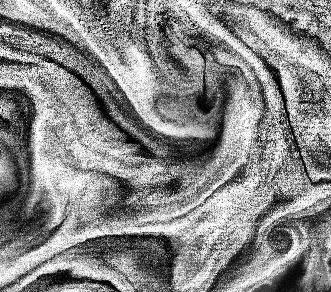CE: (264, 220, 305, 260)
